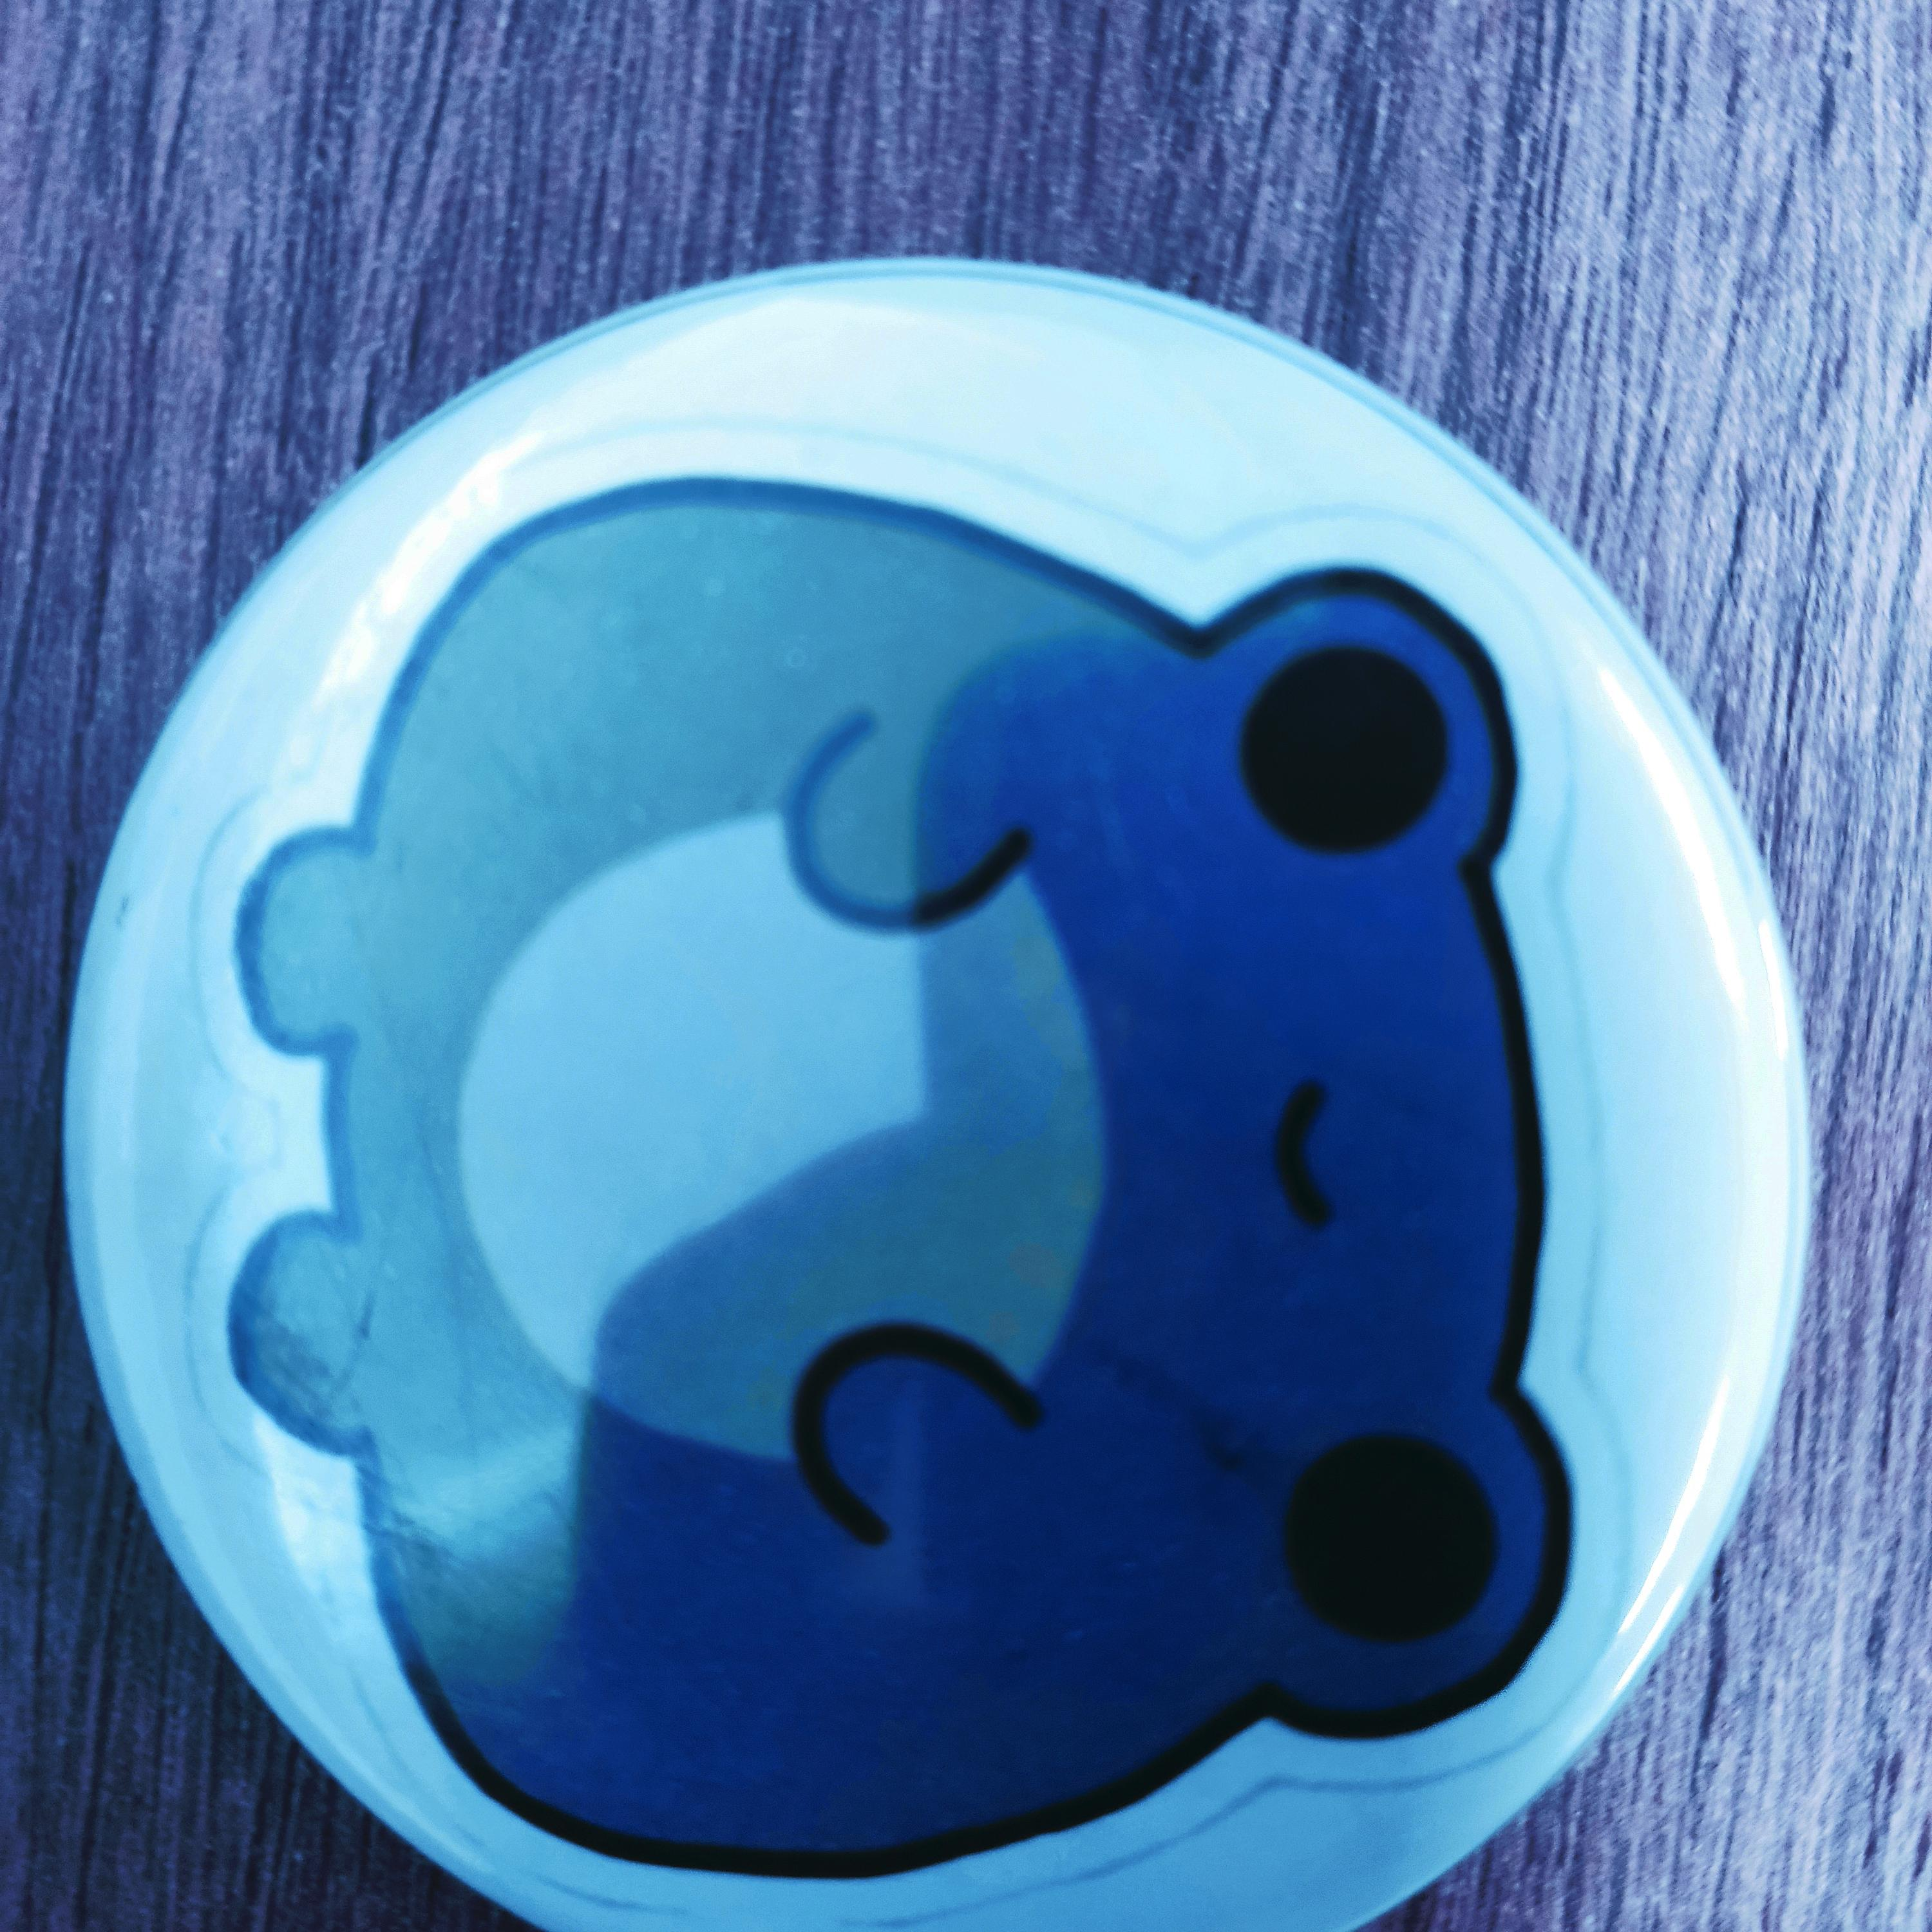pin: (117, 258, 1845, 1932)
